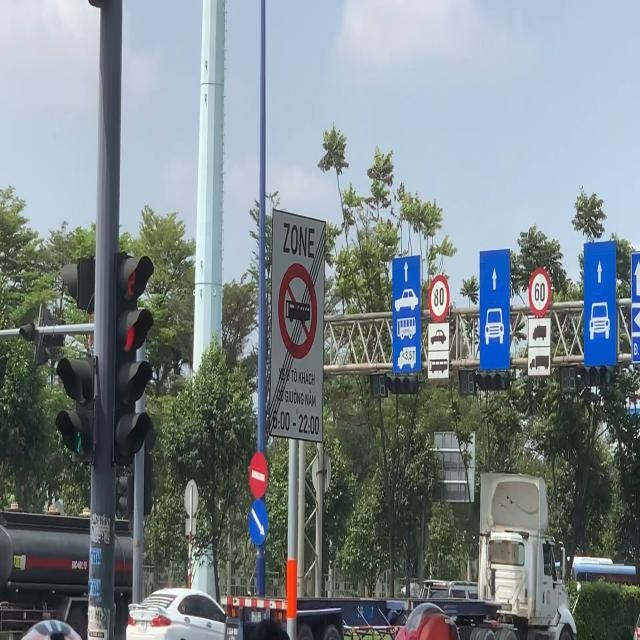bien_cam: (248, 497, 269, 548), (429, 274, 451, 320), (528, 268, 550, 314), (248, 450, 268, 499)
